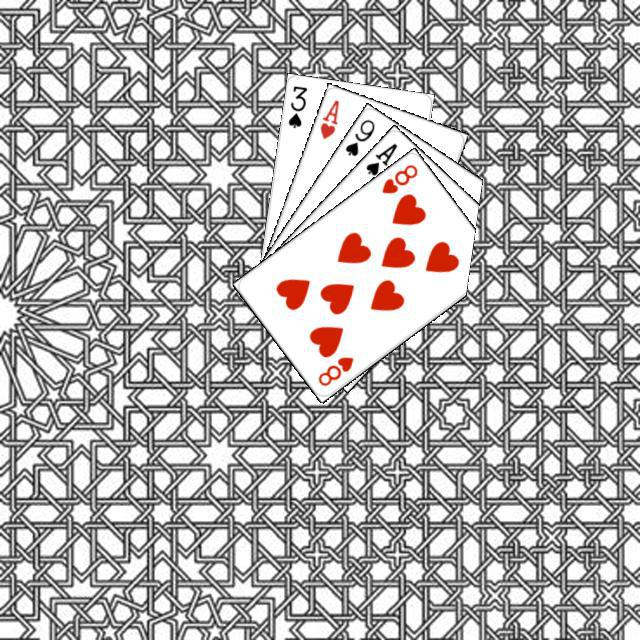3s: (283, 81, 309, 130)
8h: (377, 159, 419, 195), (313, 352, 355, 388)
9s: (340, 114, 376, 158)
Ah: (315, 95, 341, 141)
As: (361, 138, 399, 178)
